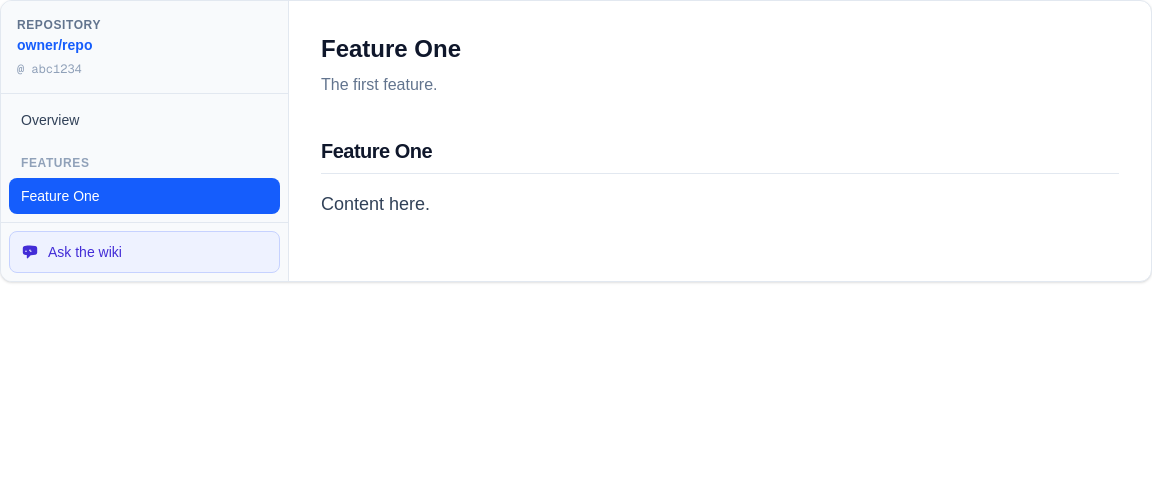
WikiViewer Q&A › disables input and shows loading state while waiting for answer
This screenshot has width=1152, height=479.
Click the button "Ask the wiki" at (85, 252), box [9,231,280,273]
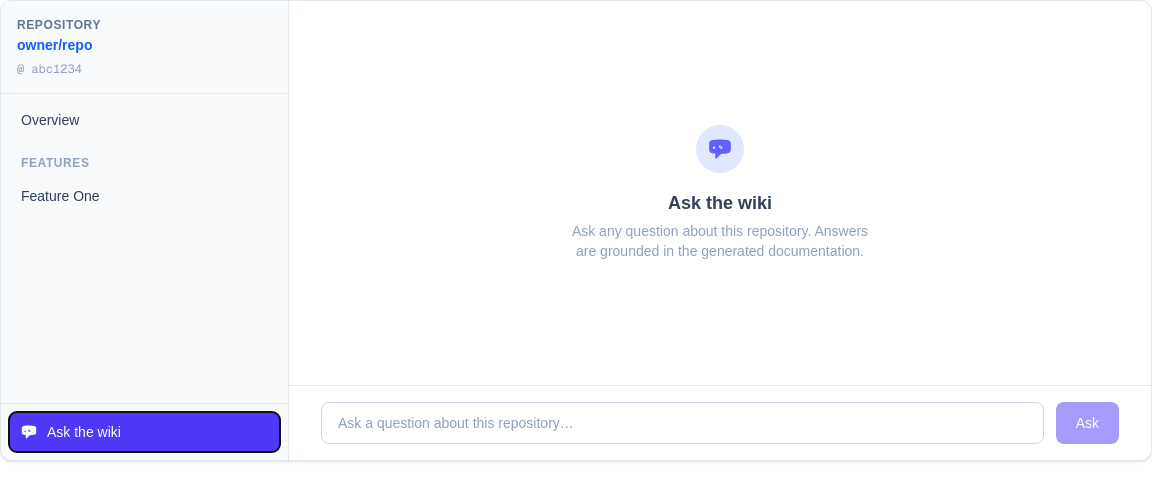
Type "What is this repo?" into the field named "ask a question about this wiki" at (682, 423), box [321,402,1044,444]
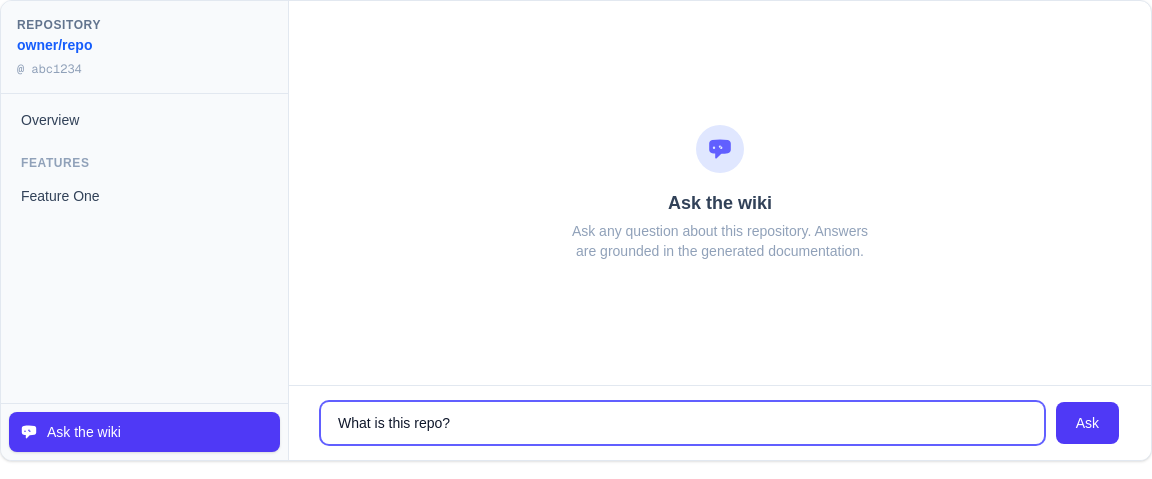
Click the button with aria-label "ask question" at (1087, 423), box [1056,402,1119,444]
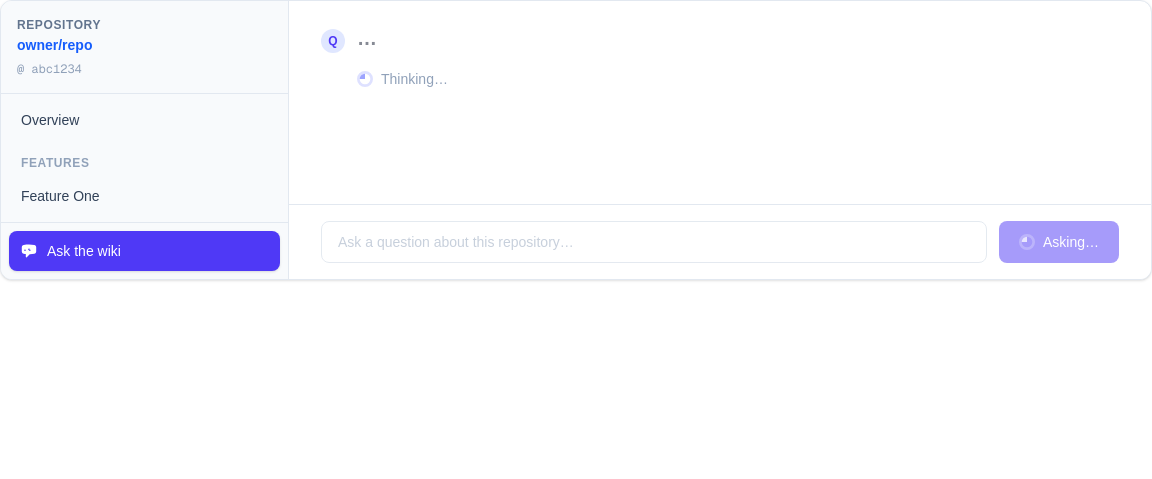
Now the field named "ask a question about this wiki" is disabled, box [321,221,987,263]
Now the button with aria-label "waiting for answer" is shown, box [999,221,1119,263]
